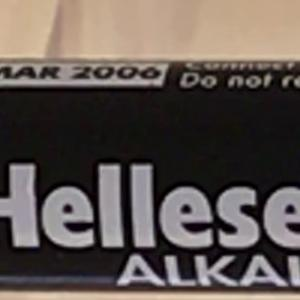keyword: (107, 245, 235, 296)
